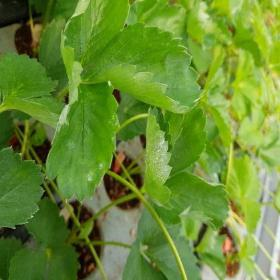Powdery Mildew Leaf: (45, 80, 120, 204), (145, 105, 174, 211)
